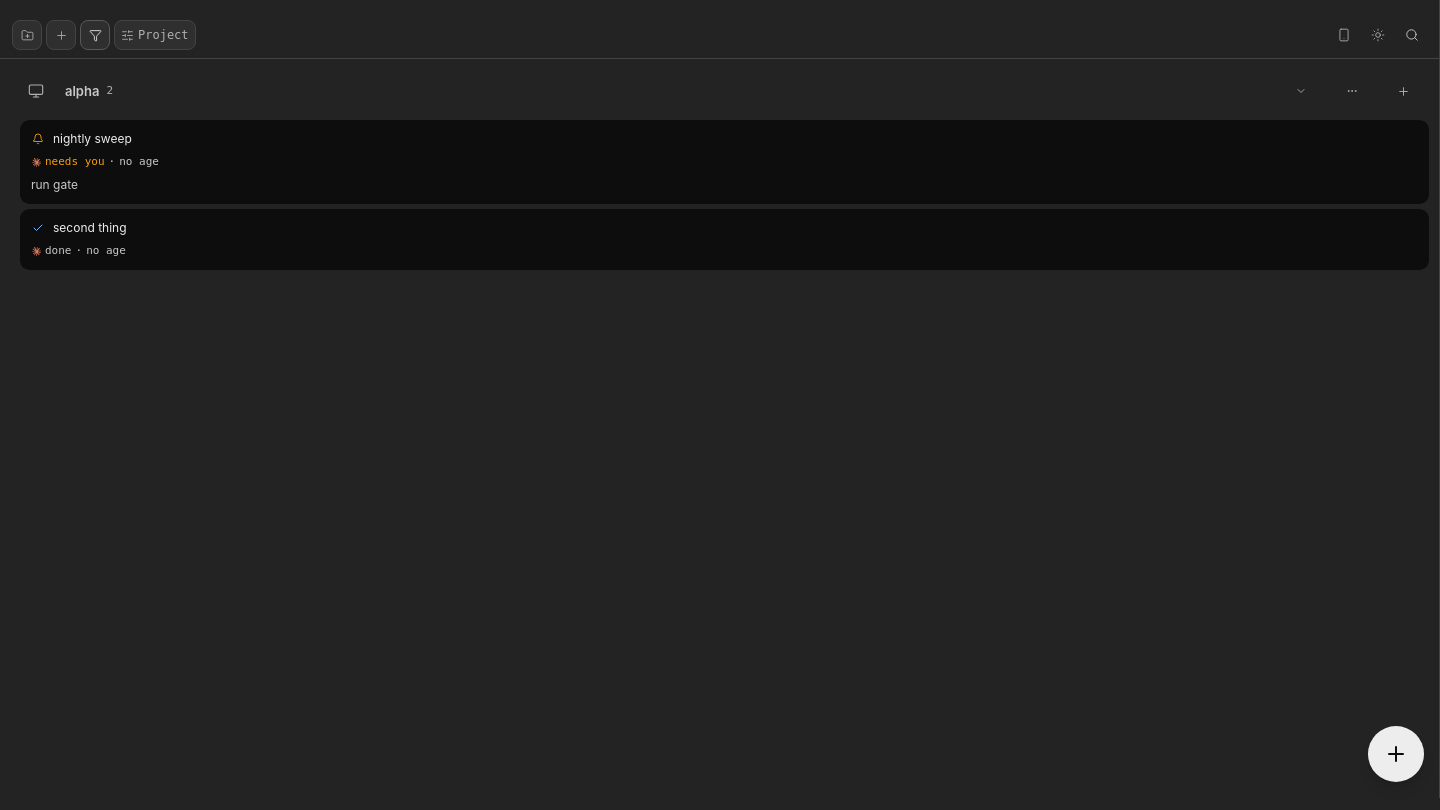
Test case: the phone shell’s hit areas › gives the project list row + a 44px hit
Click the button named "new session".
click(1396, 754)  # box [1368,726,1424,782]
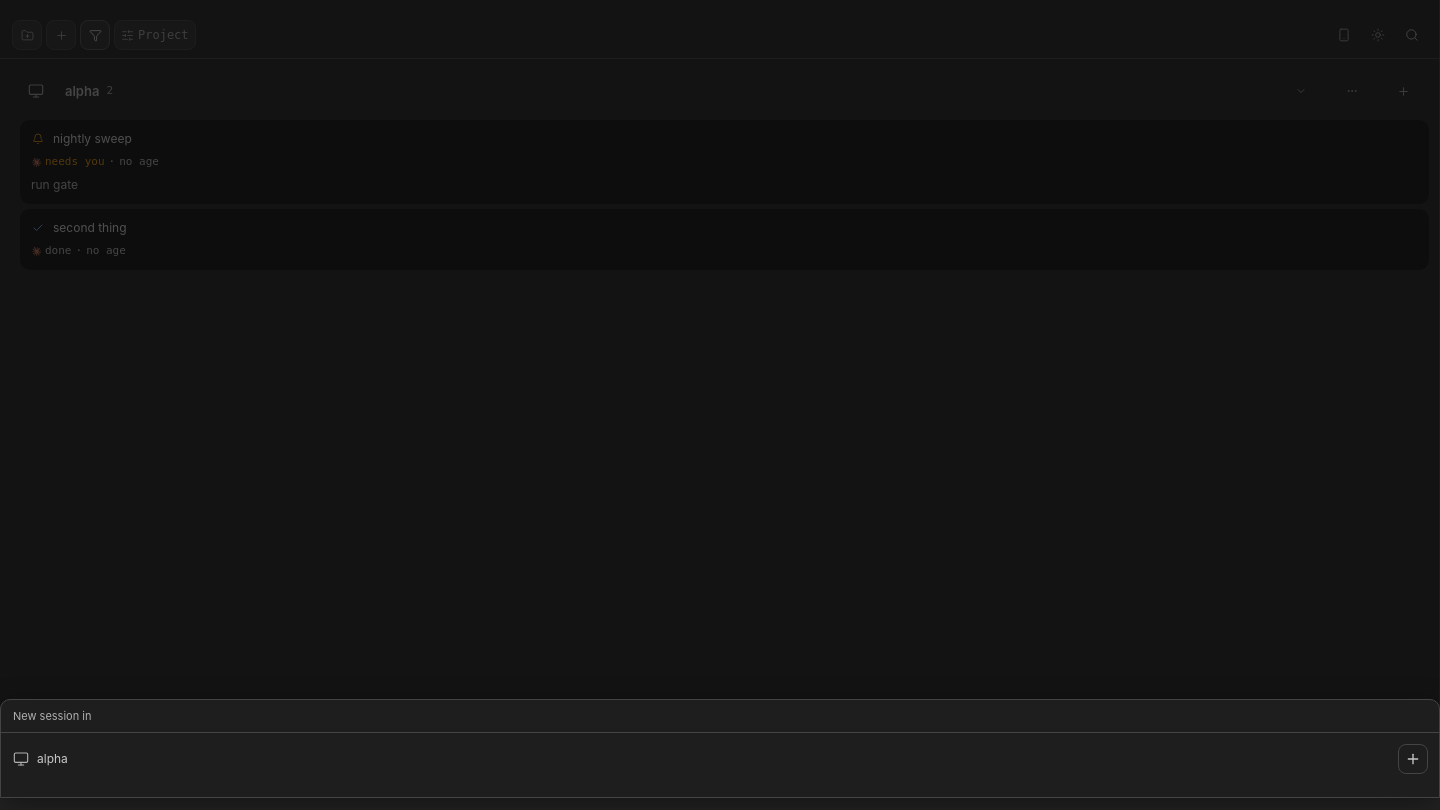
Now the button named "New session in alpha" is shown, box [1391,737,1435,781]
